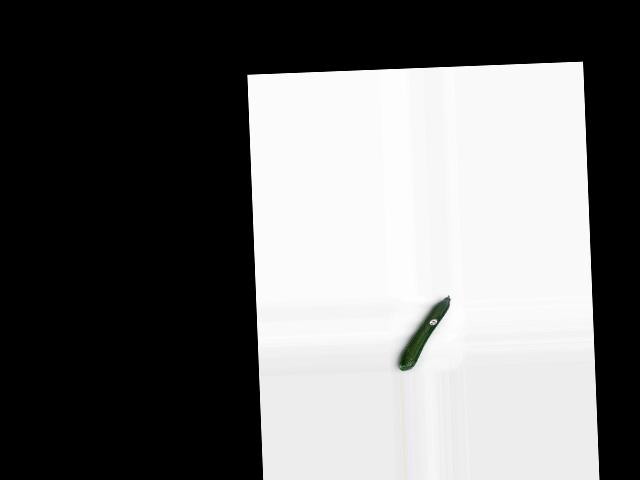cucumber: (396, 295, 453, 370)
